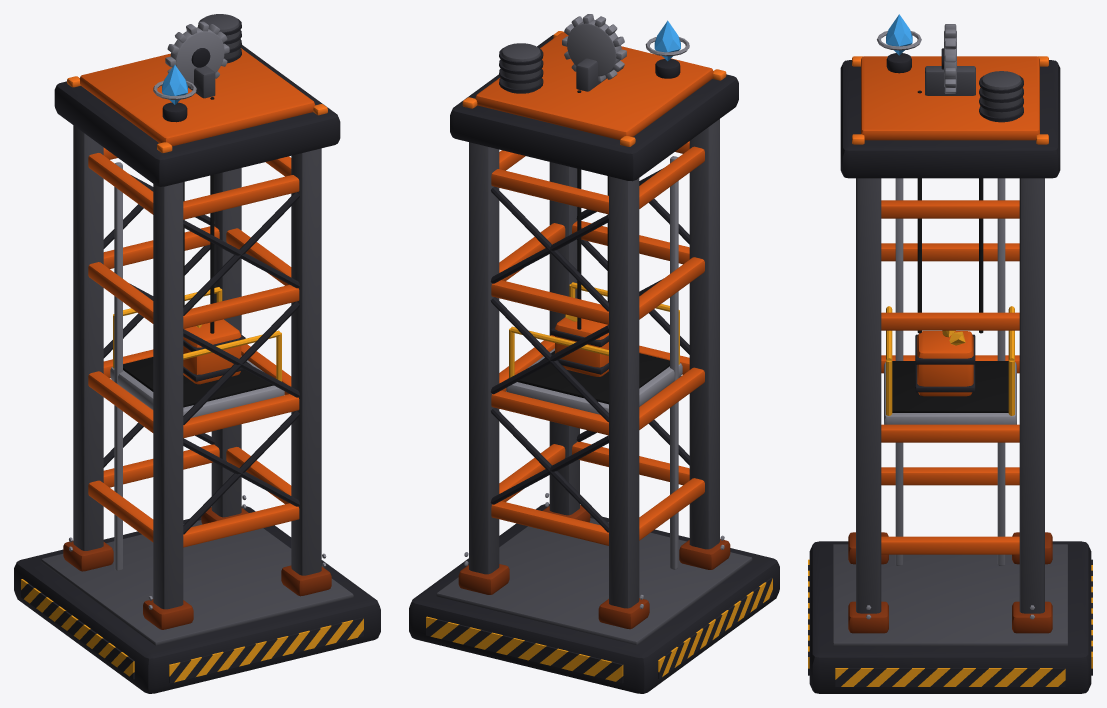
The model's file is Lift.obj.
3 views of the same model, side by side, from view 1: azimuth 30°, elevation 25°; view 2: azimuth 150°, elevation 25°; view 3: azimuth 270°, elevation 25° (orthographic). The views are drawn at different scales.
Visible parts, largest first — view 1: Lift; view 2: Lift; view 3: Lift.
Boxes of the visible parts, x1,y1,x2,y2 form: Lift: [14, 14, 380, 693]; Lift: [409, 14, 779, 693]; Lift: [808, 14, 1092, 693].
Size of the model in its own units: 1.11 by 2.64 by 1.11.
